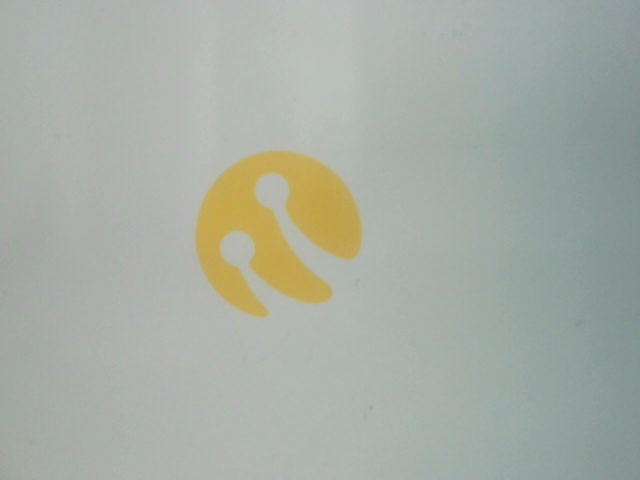AV_H3600Yellow: (188, 148, 377, 320)
